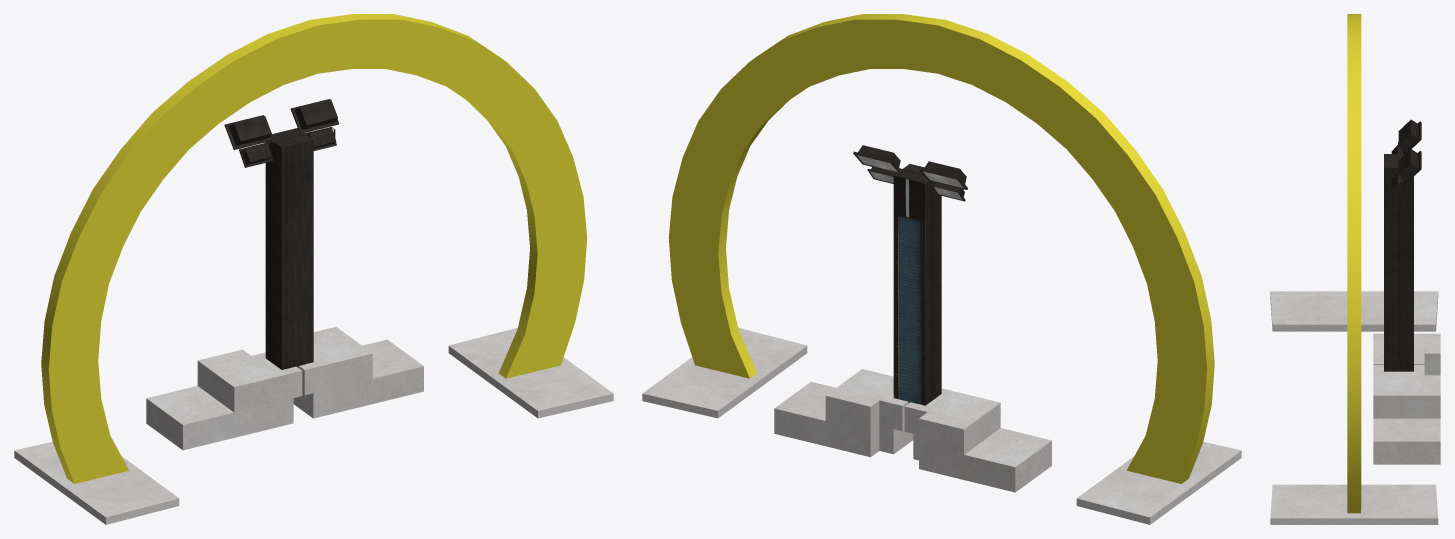
Rendered from BiaoZhi.fbx.
3 renders of one model, left to right at view 1: azimuth 30°, elevation 25°; view 2: azimuth 150°, elevation 25°; view 3: azimuth 270°, elevation 25°, orthographic. The views are drawn at different scales.
Visible parts, largest first — view 1: BiaoZhi; view 2: BiaoZhi; view 3: BiaoZhi.
Boxes of the visible parts, x1,y1,x2,y2 form: BiaoZhi: [14, 14, 613, 524]; BiaoZhi: [642, 14, 1241, 524]; BiaoZhi: [1270, 14, 1440, 524].
Size of the model in its own units: 784 by 566 by 235.
4 materials, 3 textured.
